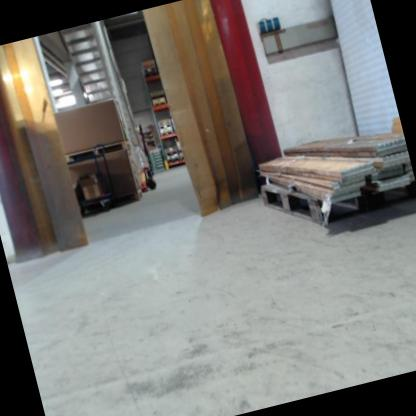pallet: (259, 147, 416, 239), (64, 135, 135, 168), (82, 188, 146, 215), (164, 148, 180, 157), (154, 100, 167, 108), (145, 71, 158, 79), (159, 123, 173, 130), (161, 129, 174, 136), (168, 157, 179, 164)
pallet_truck: (119, 117, 167, 201)
